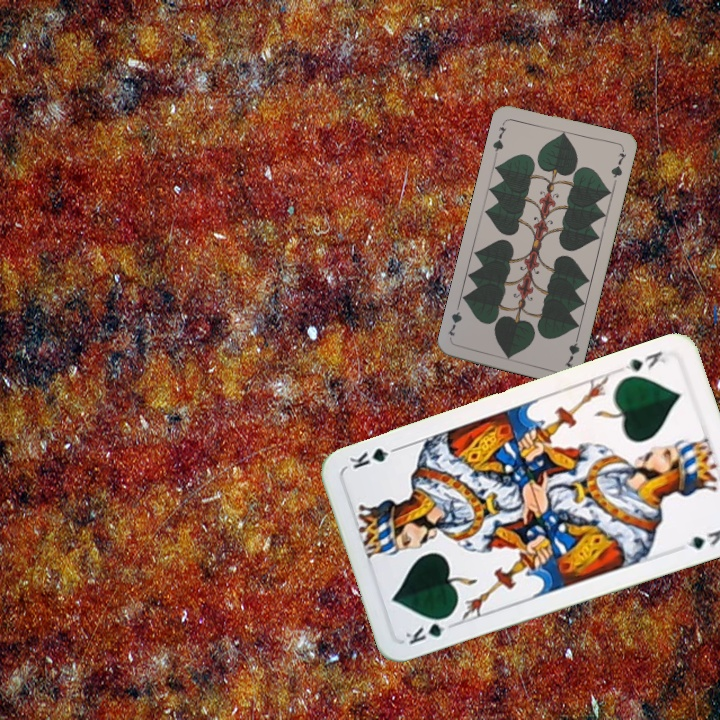G7: (561, 330, 582, 370), (489, 123, 509, 158)
GK: (401, 611, 455, 647), (621, 347, 668, 374)
